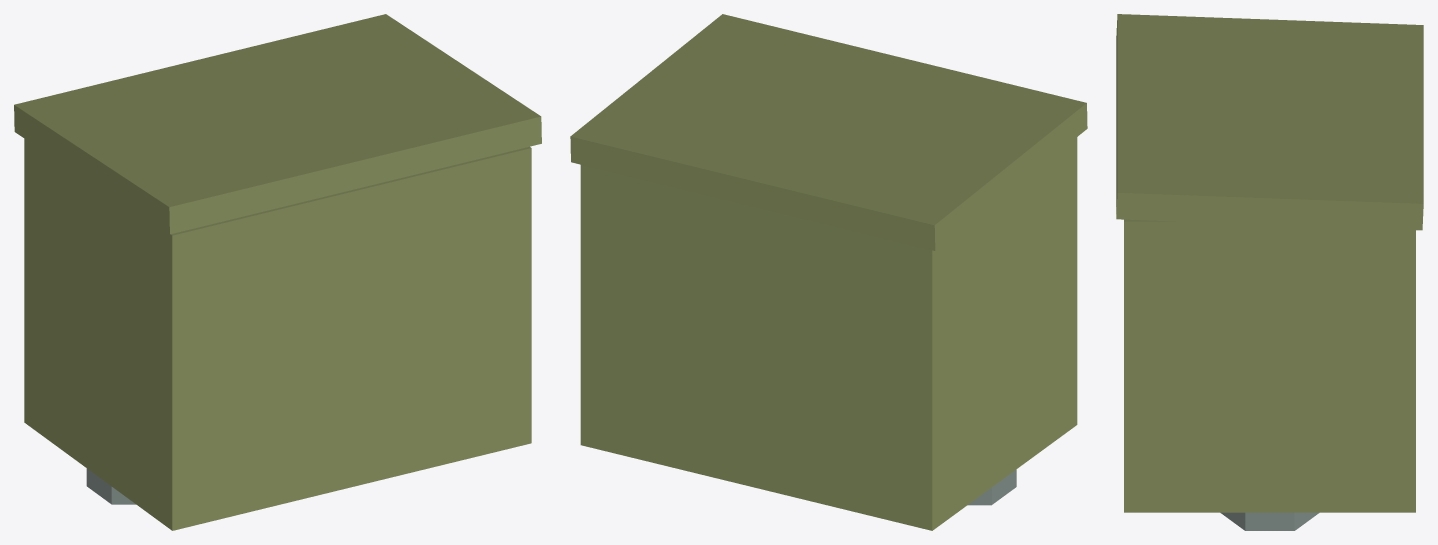
File: SM_Contenedor_v0_Verde_LOD1.fbx
The picture shows the model from 3 angles, left to right: view 1: azimuth 30°, elevation 25°; view 2: azimuth 150°, elevation 25°; view 3: azimuth 270°, elevation 25°; orthographic projection. The views are drawn at different scales.
Parts seen in each view (by area): view 1: SM_urbano_extra_v0_LOD1; view 2: SM_urbano_extra_v0_LOD1; view 3: SM_urbano_extra_v0_LOD1.
Boxes of the visible parts, <box> form: SM_urbano_extra_v0_LOD1: <box>14,14,541,530</box>; SM_urbano_extra_v0_LOD1: <box>570,14,1087,530</box>; SM_urbano_extra_v0_LOD1: <box>1116,14,1423,530</box>.
Size of the model in its own units: 1.45 by 1.29 by 1.05.
